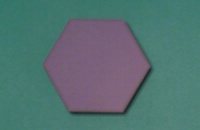green: (44, 19, 151, 112)
